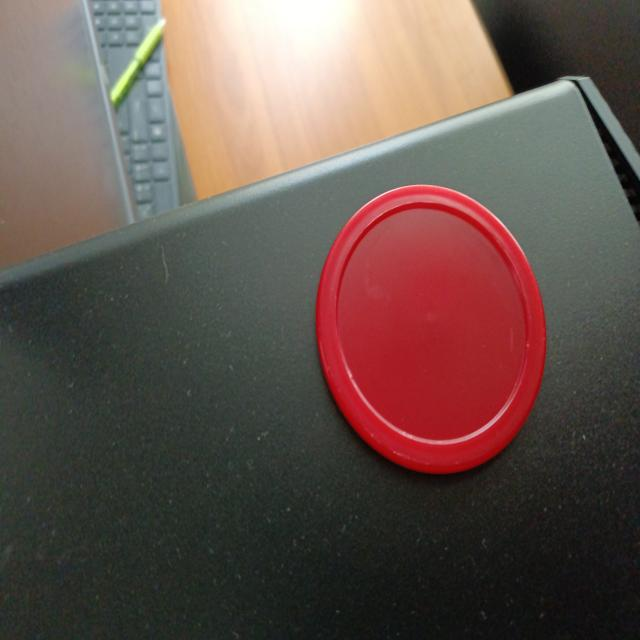chip: (316, 181, 549, 472)
